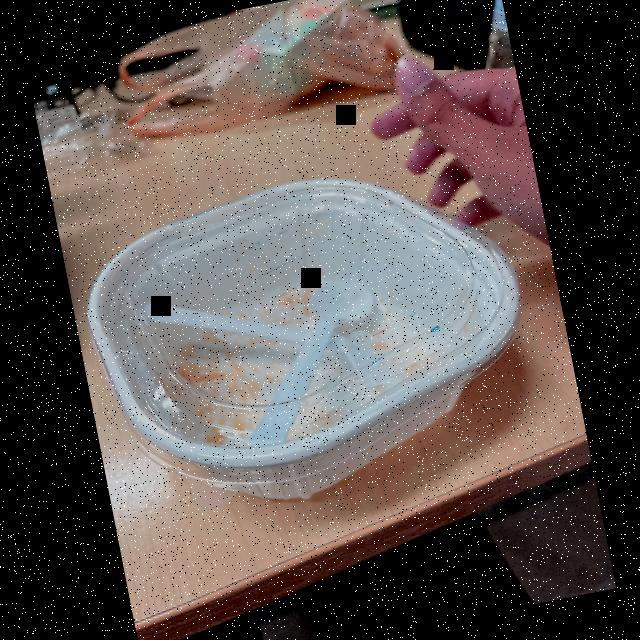plastic_box: (67, 138, 560, 542)
